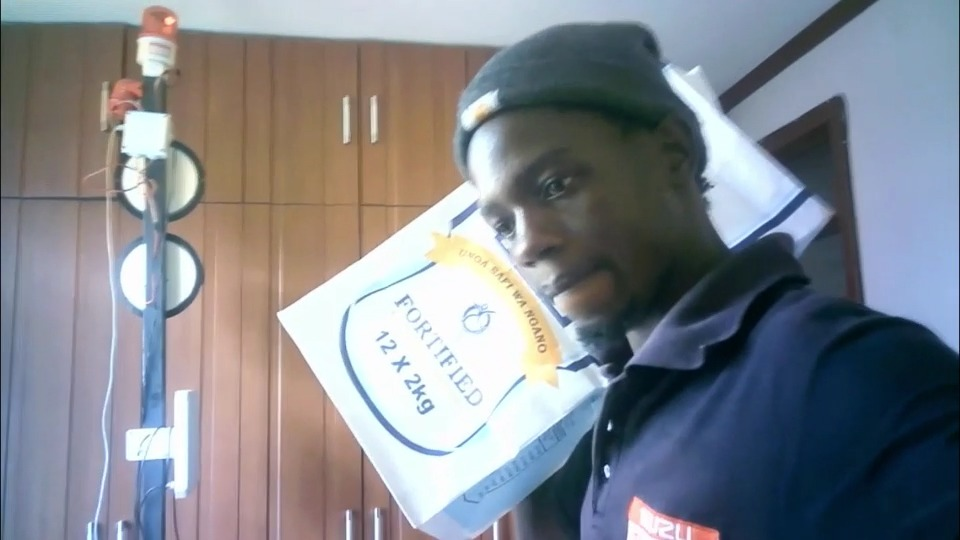wheat_flour_blue_label: (277, 68, 835, 522)
